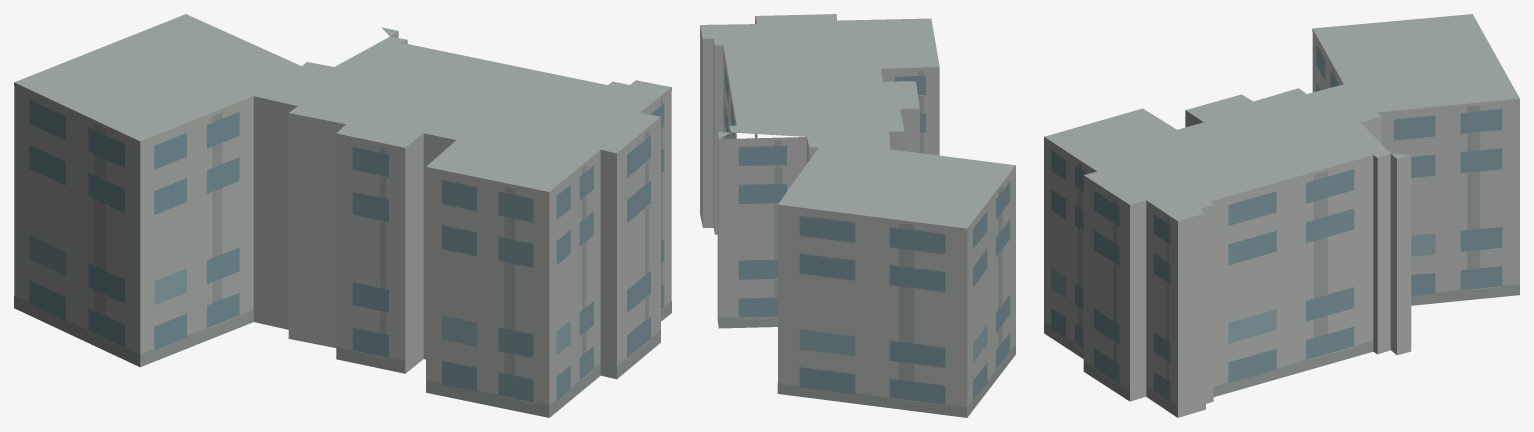
Rendered from survey-upis-32496453.glb.
The picture shows the model from 3 angles, left to right: view 1: azimuth 30°, elevation 25°; view 2: azimuth 150°, elevation 25°; view 3: azimuth 270°, elevation 25°; orthographic projection. The views are drawn at different scales.
Visible parts, largest first — view 1: survey-upis-32496453.tmp; view 2: survey-upis-32496453.tmp; view 3: survey-upis-32496453.tmp.
Boxes of the visible parts, x1,y1,x2,y2 form: survey-upis-32496453.tmp: [14, 14, 671, 417]; survey-upis-32496453.tmp: [700, 14, 1015, 417]; survey-upis-32496453.tmp: [1044, 14, 1519, 417].
Bounding box in the file's own units: 34.5 × 15.25 × 33.46.
